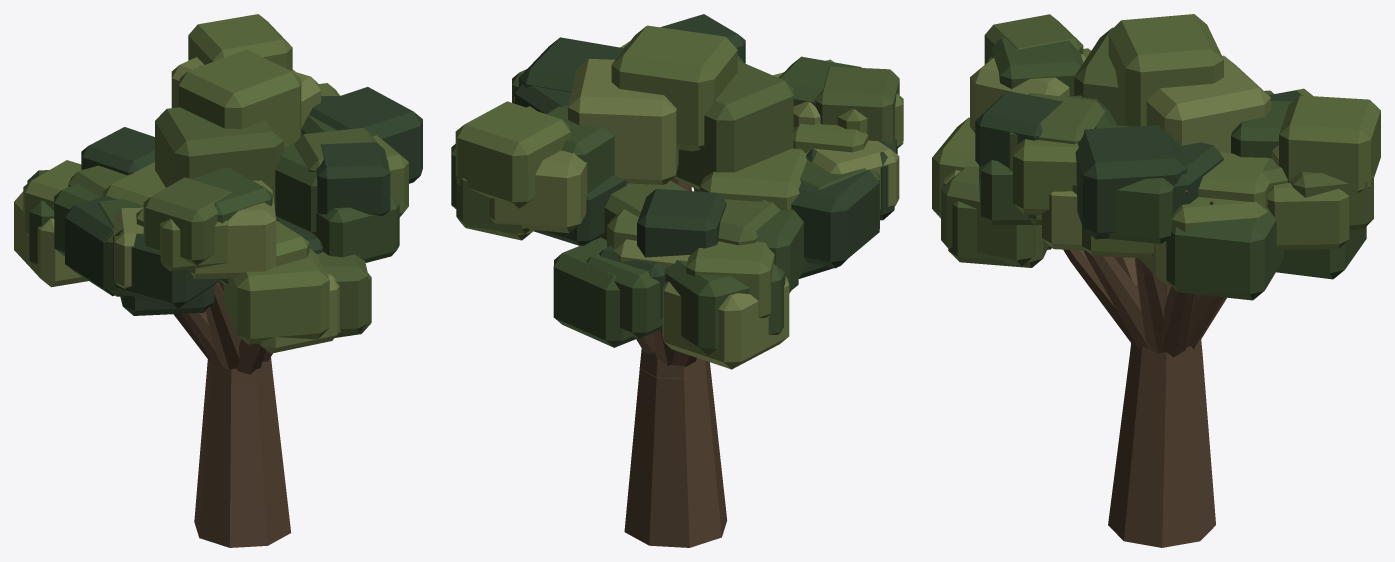
Rendered from oak_ancient_3.glb.
3 views of the same model, side by side, from view 1: azimuth 30°, elevation 25°; view 2: azimuth 150°, elevation 25°; view 3: azimuth 270°, elevation 25° (orthographic). The views are drawn at different scales.
Visible parts, largest first — view 1: oak_ancient_3; view 2: oak_ancient_3; view 3: oak_ancient_3.
Part boxes in pixels (bbox=[...]): oak_ancient_3: bbox=[14, 14, 422, 547]; oak_ancient_3: bbox=[451, 14, 903, 547]; oak_ancient_3: bbox=[932, 14, 1380, 547].
Bounding box in the file's own units: 18.79 × 24 × 19.92.
